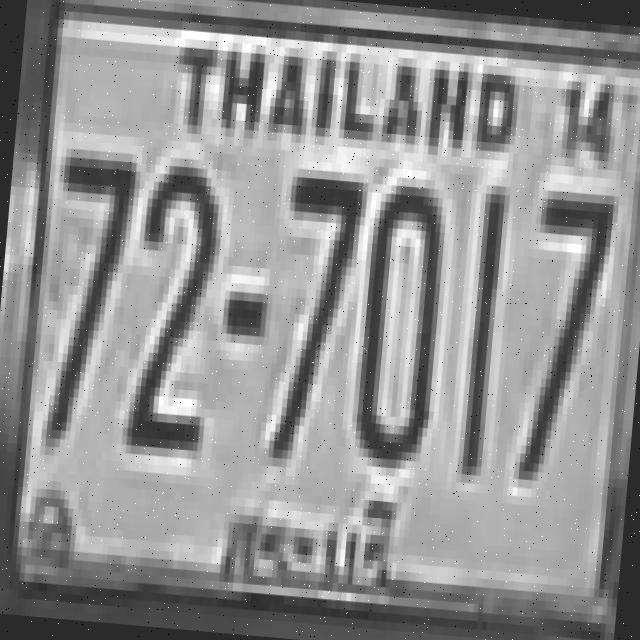0: (349, 175, 444, 462)
1: (454, 180, 504, 471), (456, 180, 506, 471)
2: (124, 151, 220, 446)
7: (264, 163, 364, 459), (514, 180, 610, 476), (36, 148, 132, 442)
SaraBuri: (211, 474, 411, 620)
